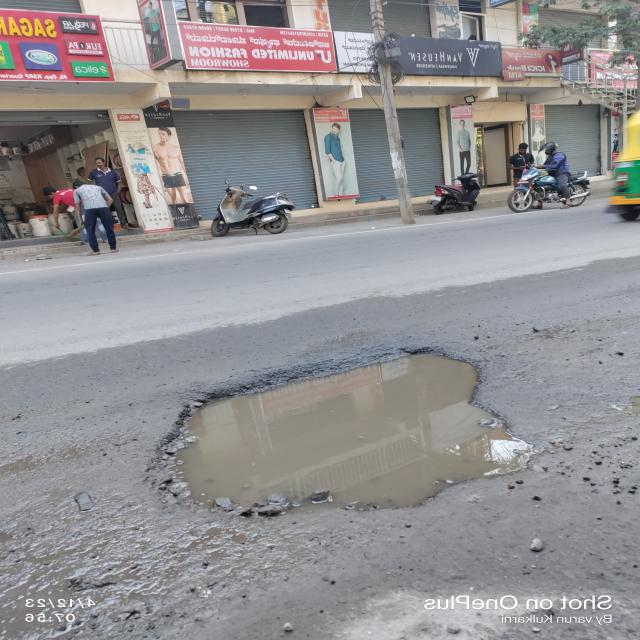Puddle pothole: (132, 344, 508, 526)
